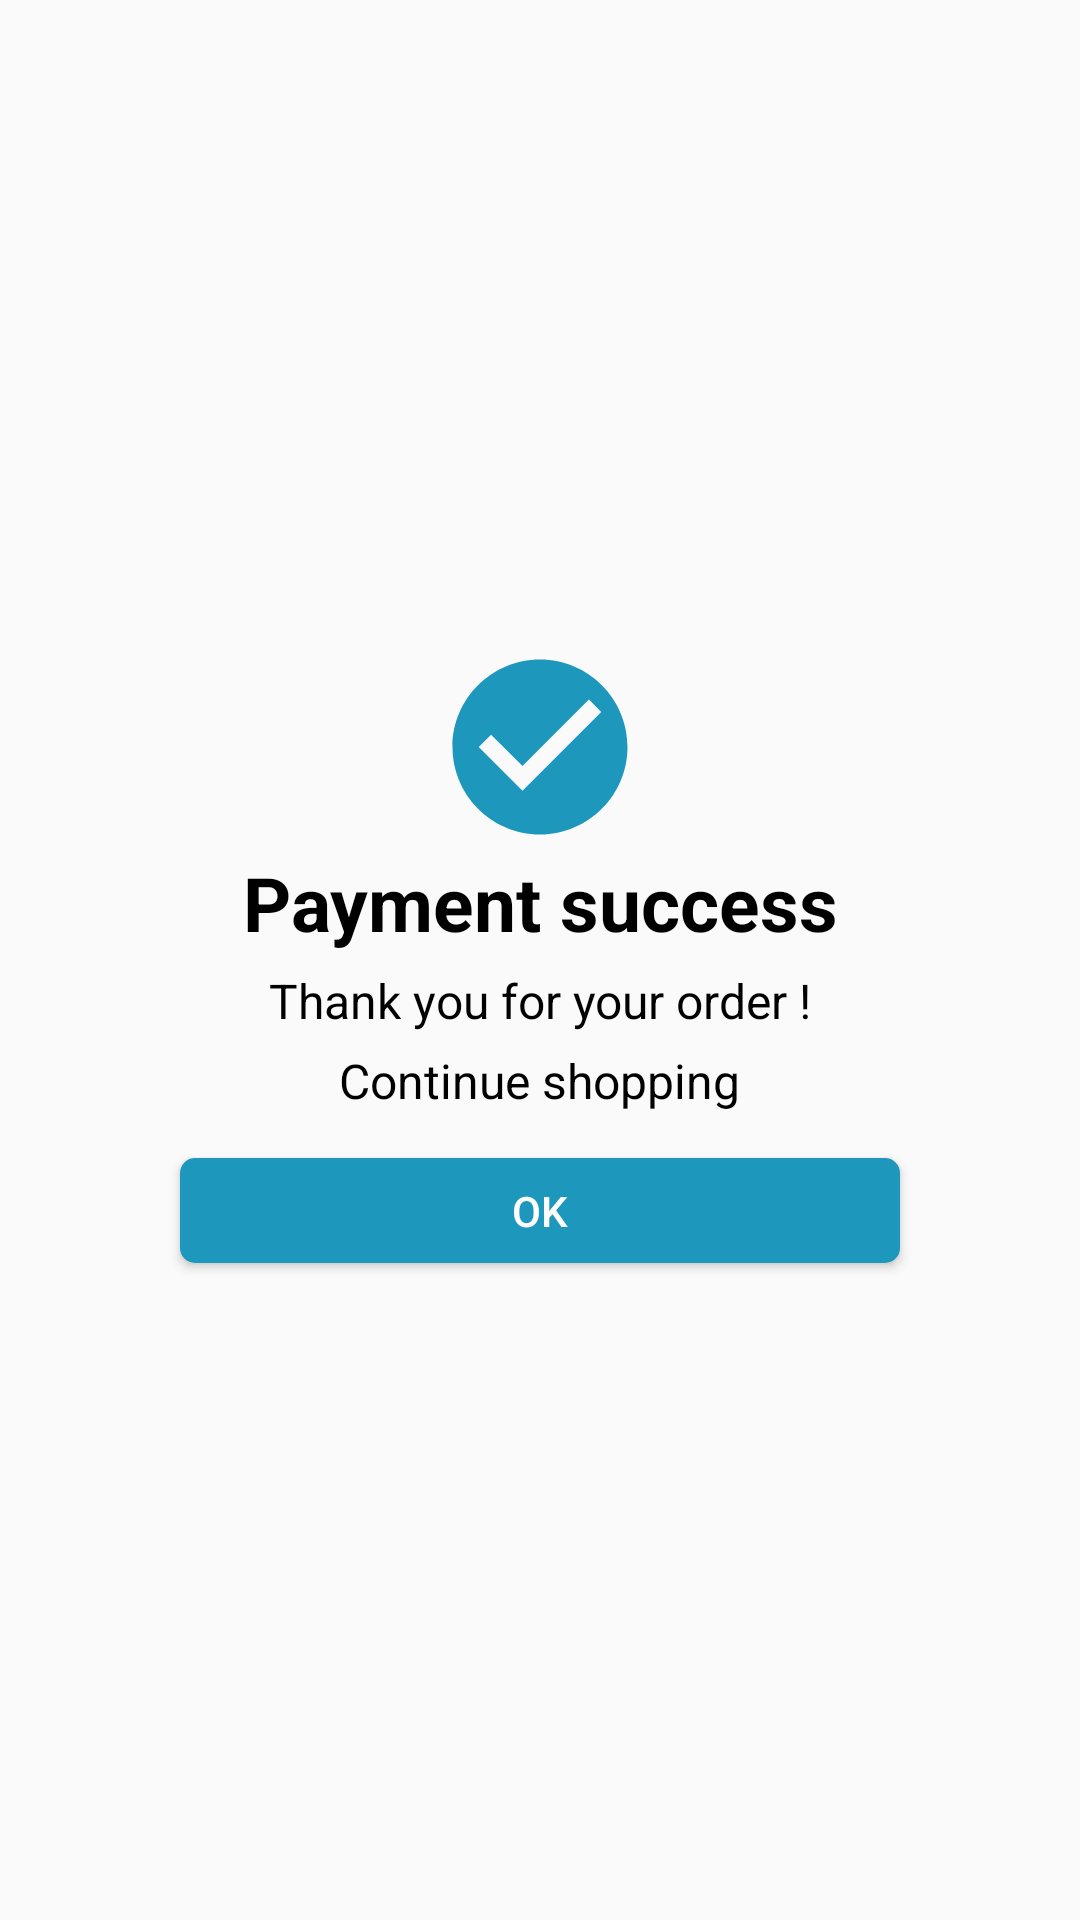

Icons on this 1080px x 1920px Android screen, each with its box as (x1=x1, y1=y1, x2=x2, y2=y2):
check circle: (x1=452, y1=659, x2=628, y2=835)
